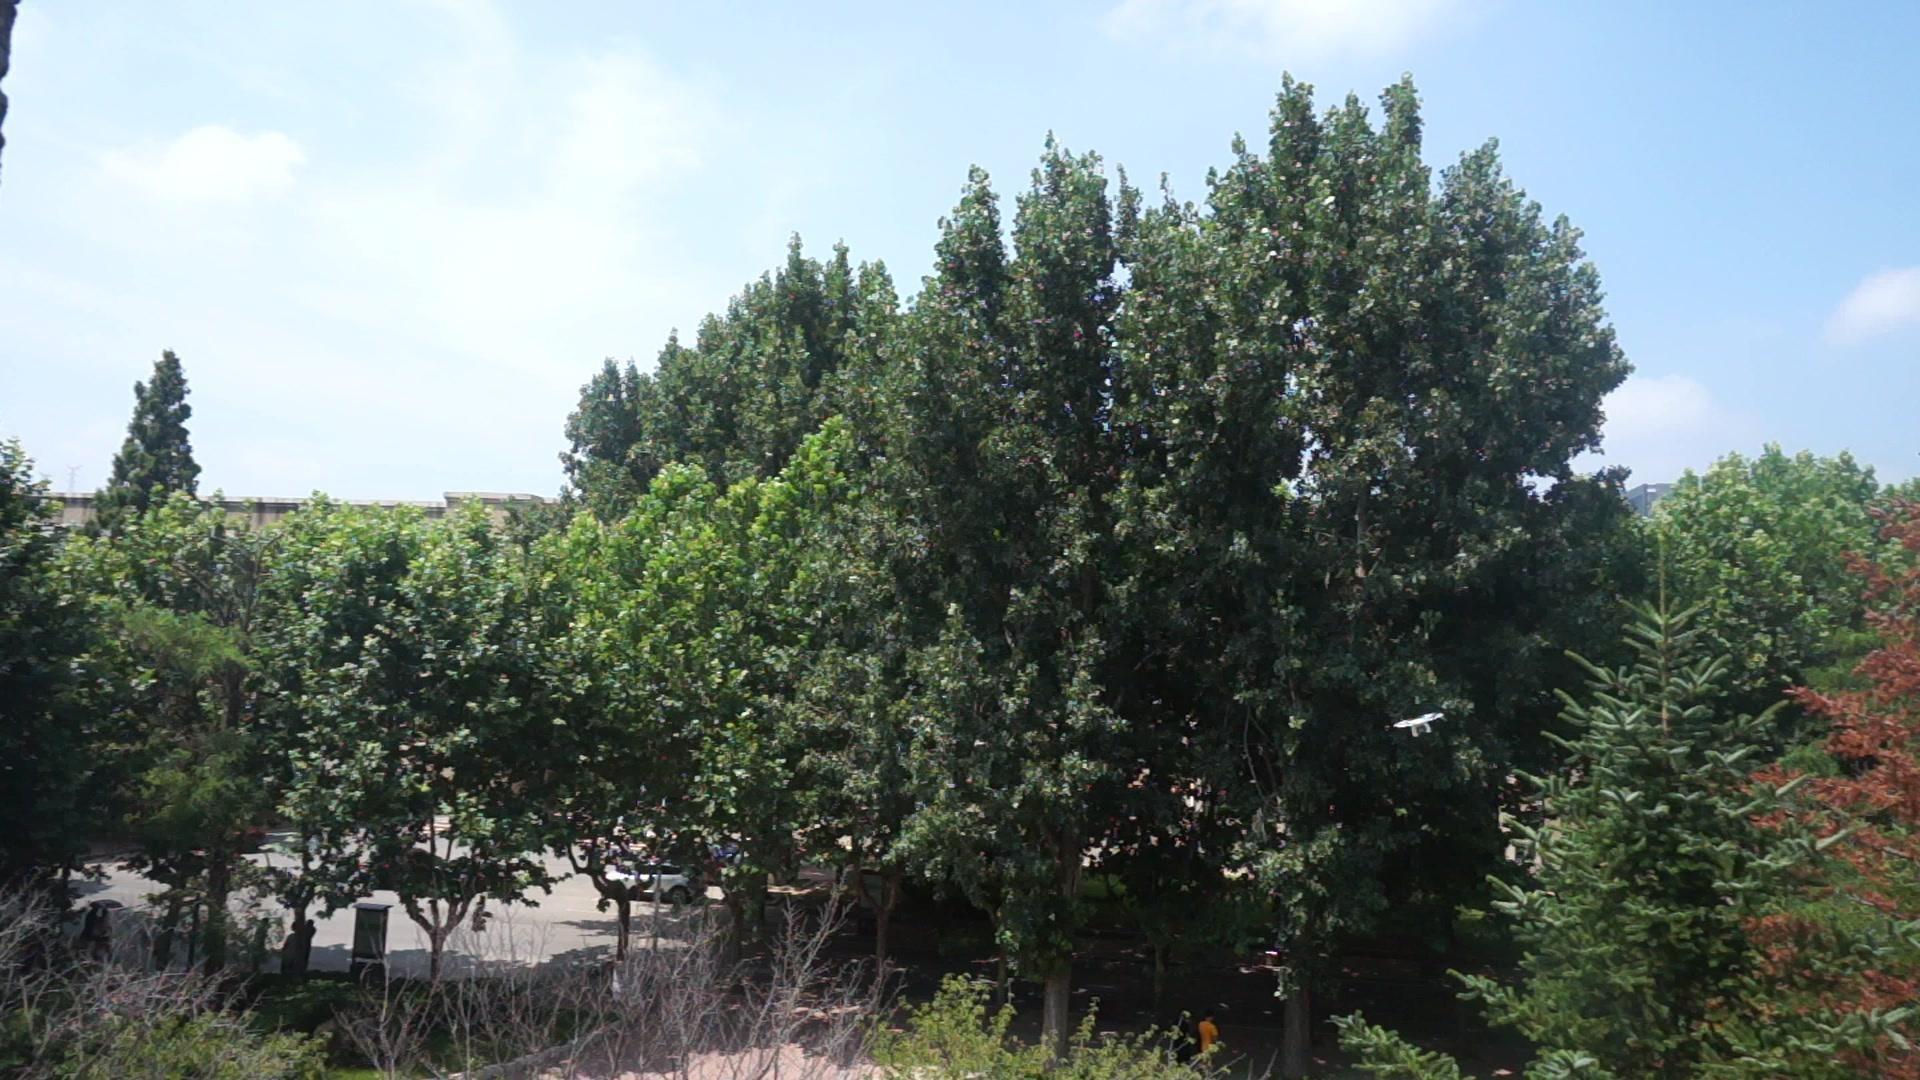UAV: (1394, 713, 1447, 738)
